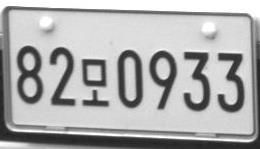0: (117, 49, 144, 108)
2: (48, 46, 76, 106)
3: (217, 51, 246, 113), (182, 51, 211, 111)
8: (15, 44, 44, 104)
9: (148, 49, 178, 110)
모: (81, 58, 109, 107)
